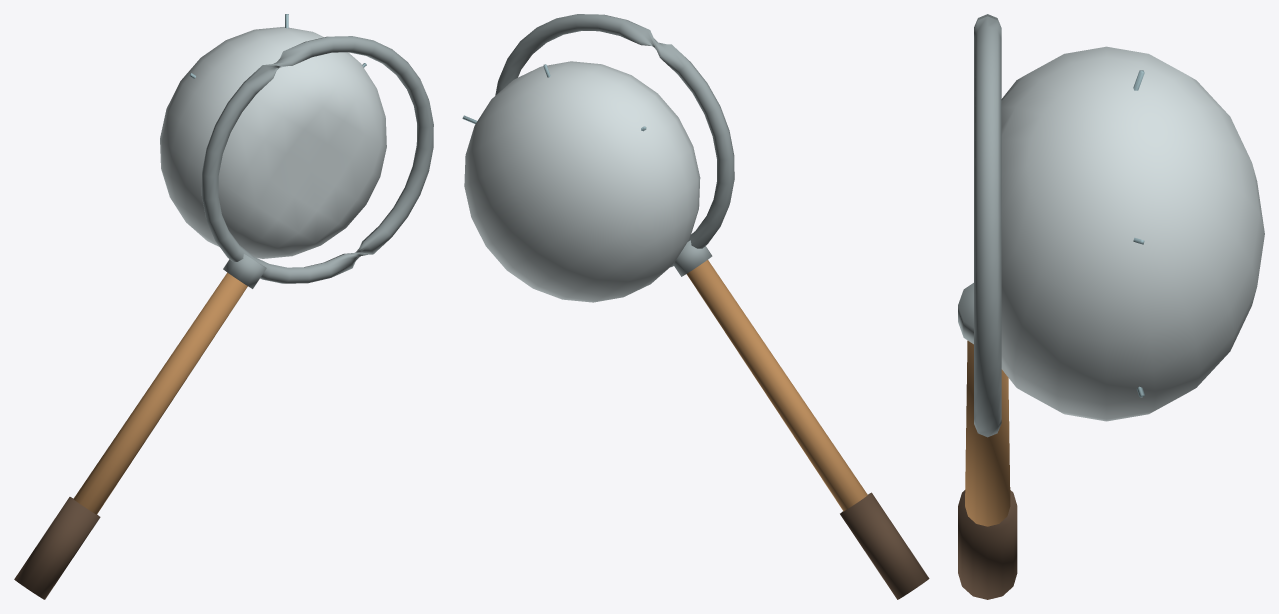
File: tool-net.glb
3 views of the same model, side by side, from view 1: azimuth 30°, elevation 25°; view 2: azimuth 150°, elevation 25°; view 3: azimuth 270°, elevation 25° (orthographic). The views are drawn at different scales.
Parts seen in each view (by area): view 1: tool; view 2: tool; view 3: tool.
Part boxes in pixels (x1,y1,x2,y2): tool: (14, 14, 433, 599); tool: (462, 14, 929, 599); tool: (958, 14, 1264, 599).
Bounding box in the file's own units: 0.7697 × 0.8683 × 0.31.
